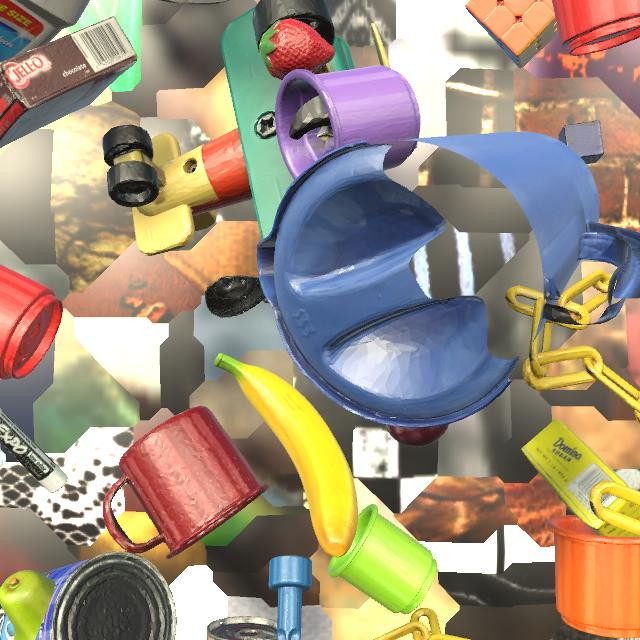ycb_002_master_chef_can: (0, 551, 177, 640), (161, 0, 229, 5)
ycb_004_sugar_box: (521, 418, 640, 537)
ycb_005_tomato_soup_can: (206, 616, 277, 640)
ycb_008_pudding_box: (0, 16, 138, 148)
ycb_011_banana: (214, 353, 358, 557)
ycb_012_strawberry: (259, 18, 335, 80)
ycb_016_pear: (0, 570, 55, 640)
ycb_018_plum: (384, 424, 449, 447)
